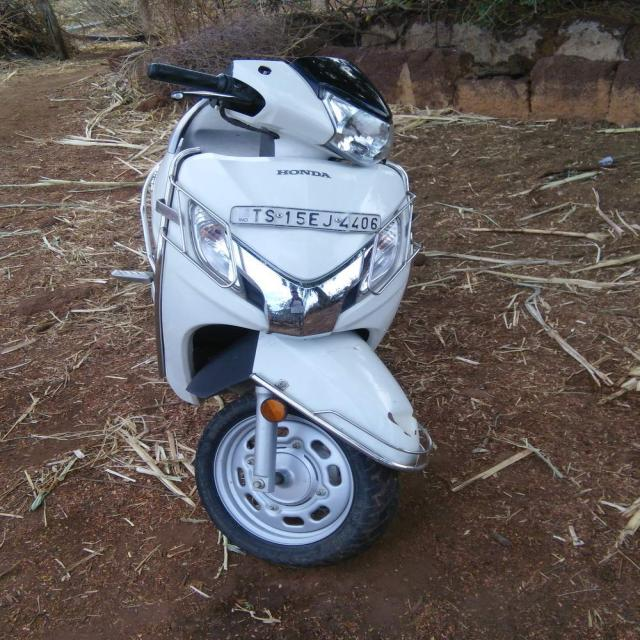number plate: (228, 204, 382, 233)
